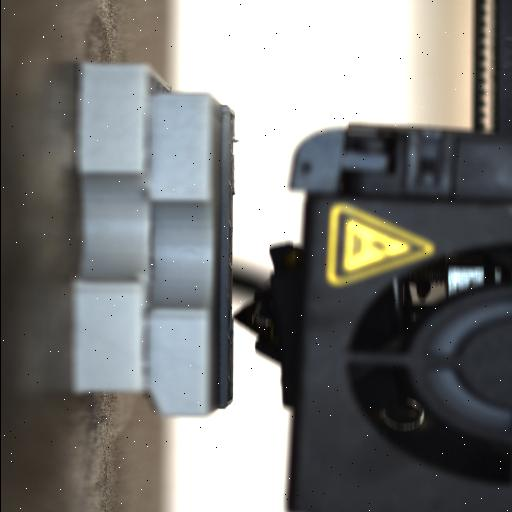layer_shift: (136, 64, 162, 414)
